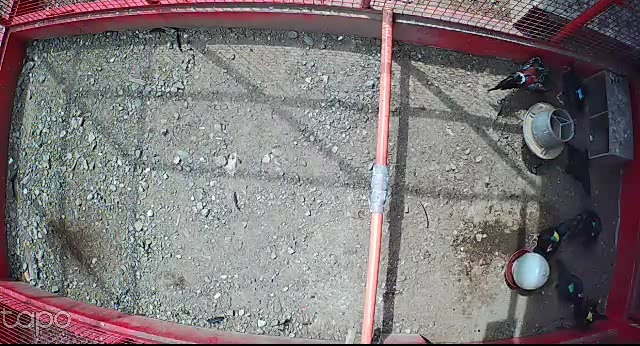Chicken: (554, 63, 596, 119), (527, 216, 579, 260), (556, 141, 595, 199), (571, 211, 606, 253), (564, 299, 612, 328), (552, 259, 583, 302)
Drinker: (504, 248, 550, 292)
Feeder: (521, 101, 575, 159)
Rooster: (486, 55, 556, 99)
Saddle_Color_Blue: (578, 88, 582, 99)
Saddle_Color_Yellow: (585, 312, 593, 321)
Saddle_Color_YellowGreen: (550, 231, 559, 242)
